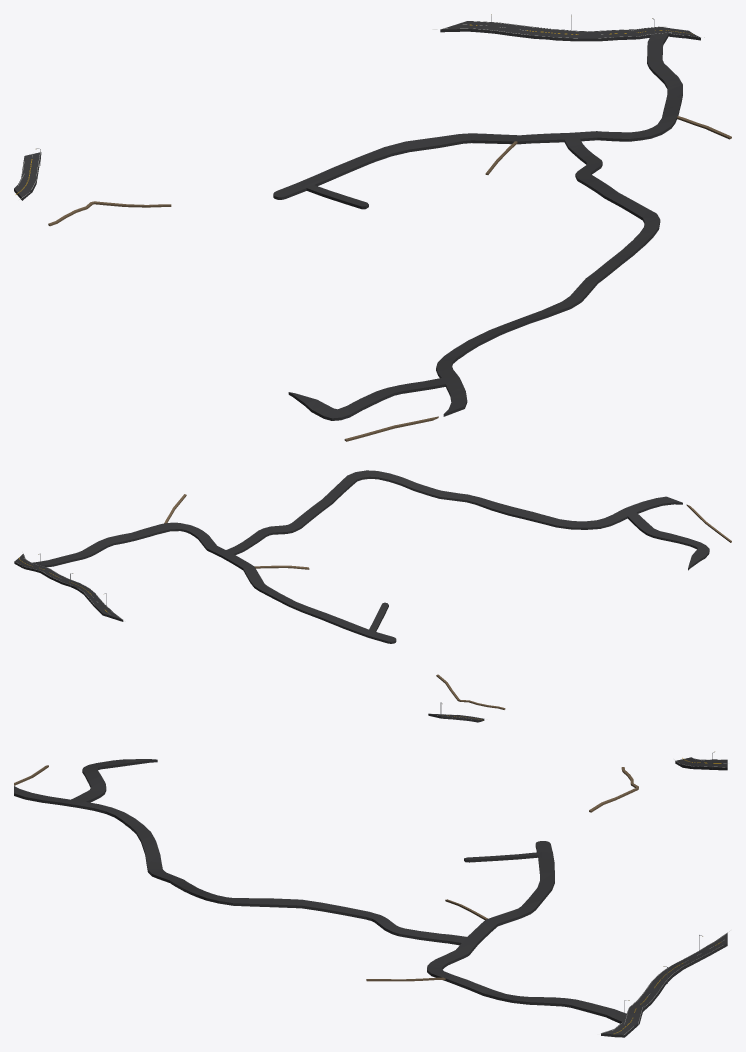
3 renders of one model, top to bottom at view 1: azimuth 30°, elevation 25°; view 2: azimuth 150°, elevation 25°; view 3: azimuth 270°, elevation 25°, orthographic. The views are drawn at different scales.
Size of the model in its own units: 297 by 27.81 by 293.
